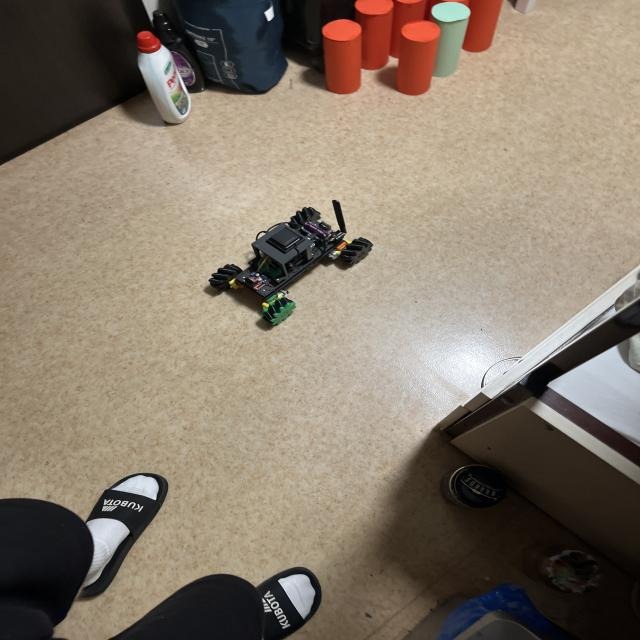robot: (209, 200, 372, 325)
